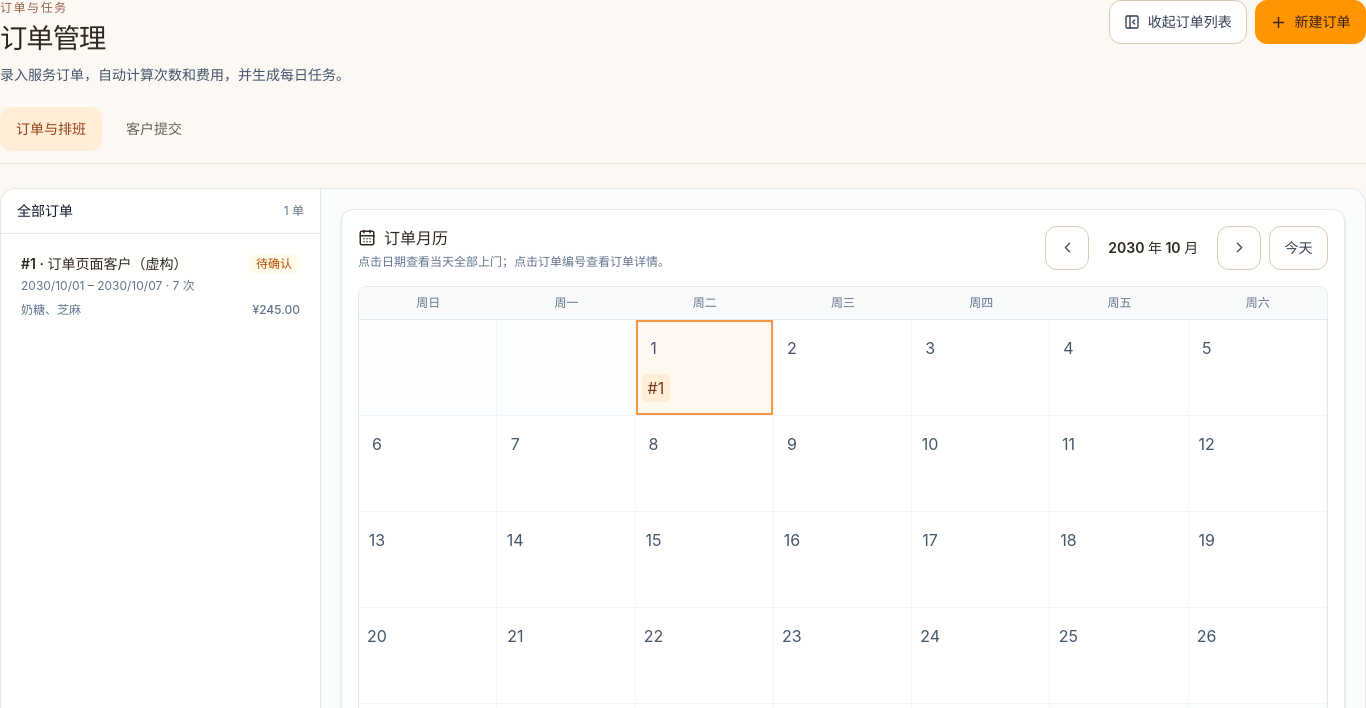
Scenario: uses the month calendar as the primary view and opens details on demand
Check: the heading "订单月历" is shown, box [358, 228, 448, 248]
Check: the heading "订单 #1" is not shown
Click the button named "订单 #1，订单页面客户（虚构），2 次上门": click(656, 388) [642, 374, 670, 402]
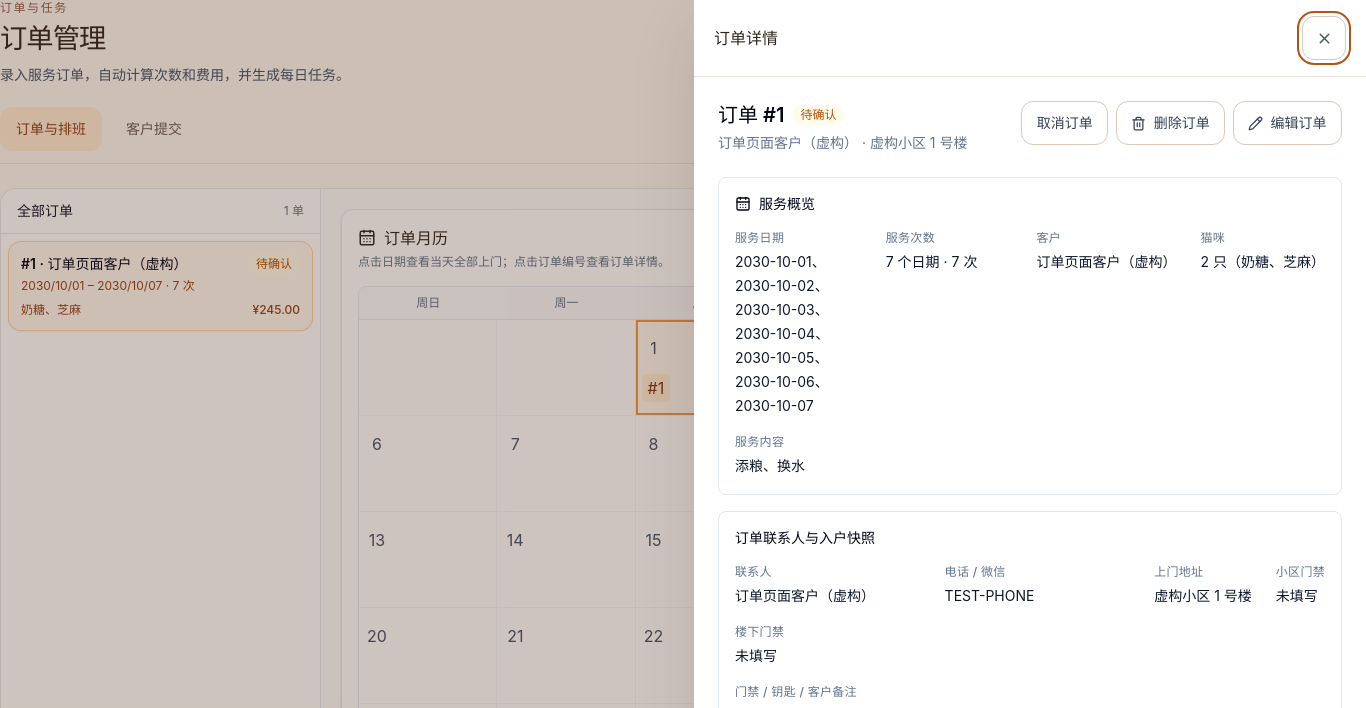
Check: the heading "订单月历" is shown, box [358, 228, 448, 248]
Check: the heading "订单 #1" is shown, box [718, 101, 784, 129]
Click the button named "关闭订单详情": click(1324, 38) [1302, 16, 1346, 60]
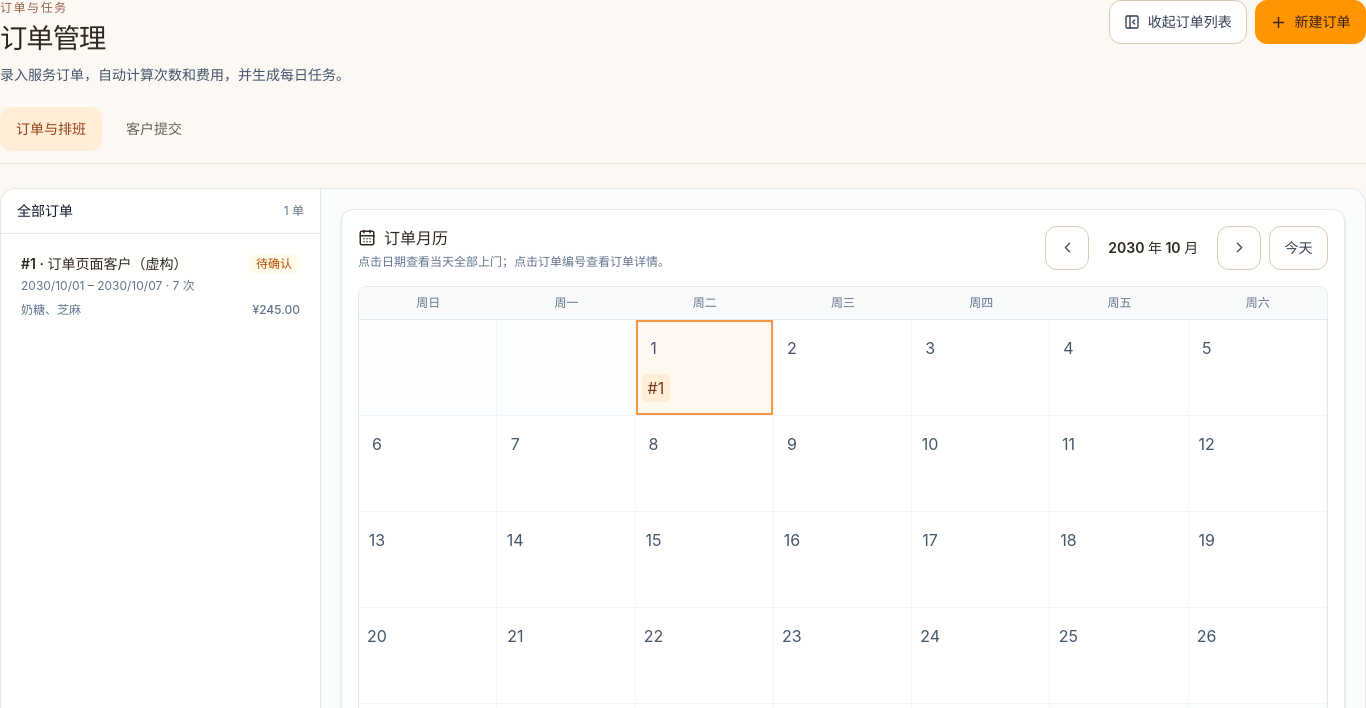
Check: the heading "订单 #1" is not shown
Check: the heading "订单月历" is shown, box [358, 228, 448, 248]
Click the button "收起订单列表": click(1178, 22) [1109, 0, 1247, 44]
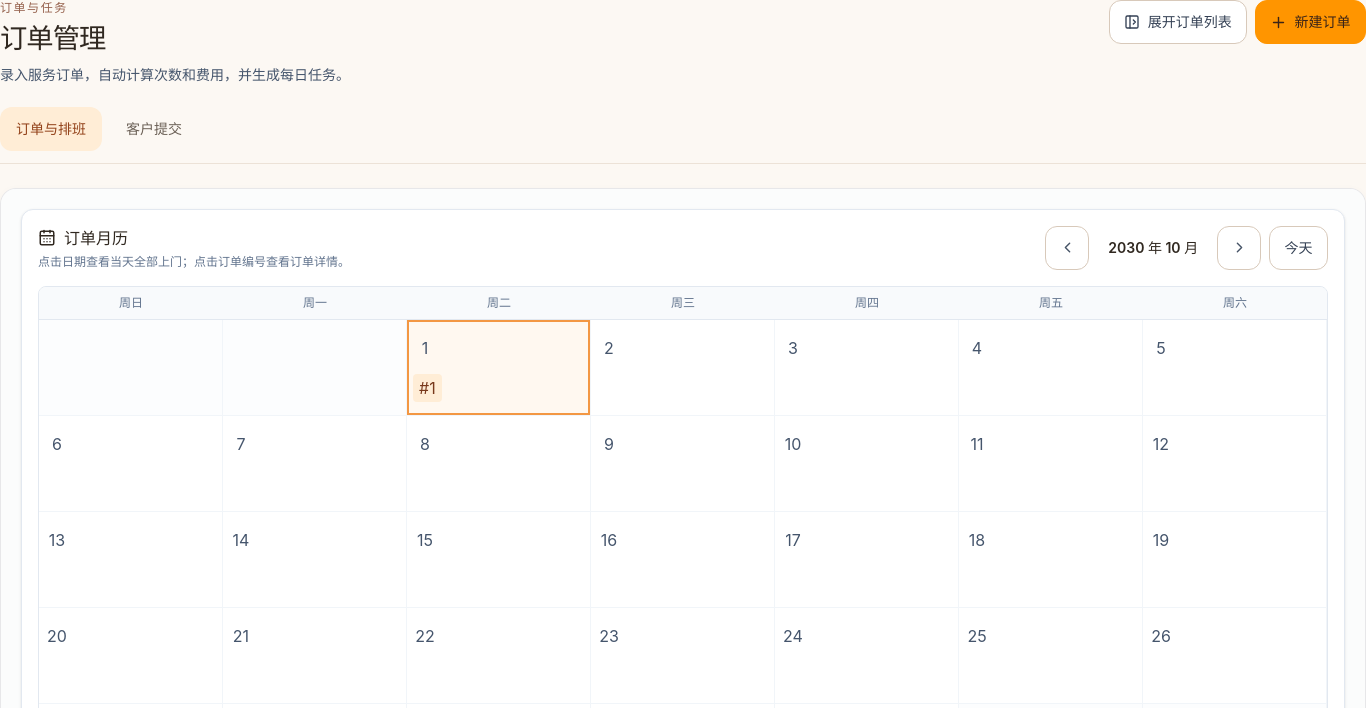
Check: the button "展开订单列表" is shown, box [1109, 0, 1247, 44]
